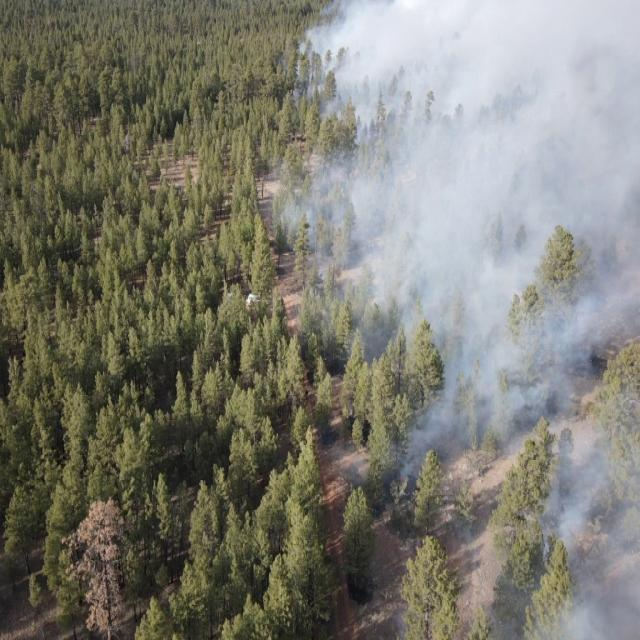smoke: (269, 0, 640, 482), (497, 487, 640, 640)
